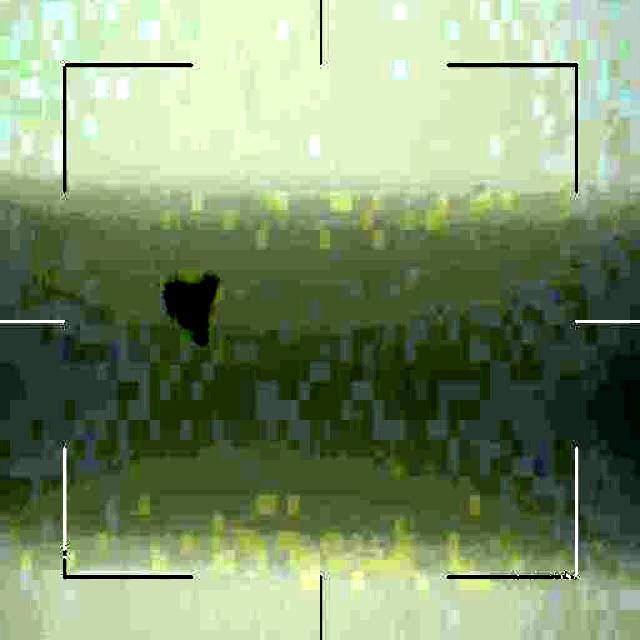bird: (154, 268, 224, 348)
